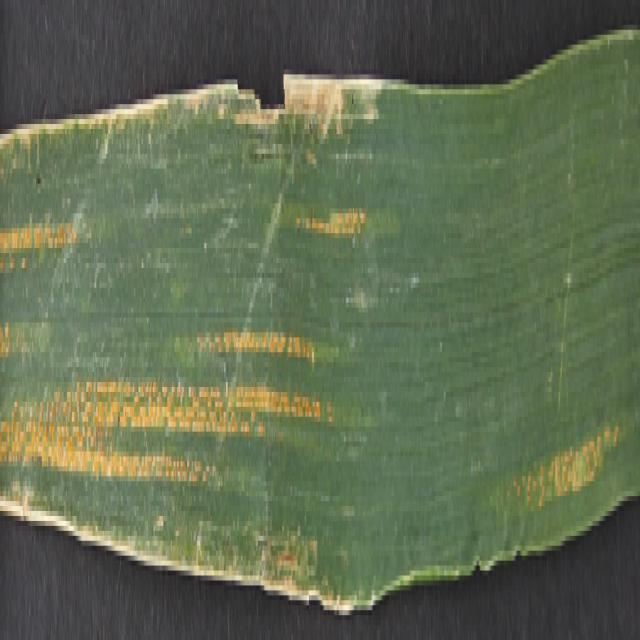leaf rust: (1, 129, 366, 566), (506, 397, 633, 531)
